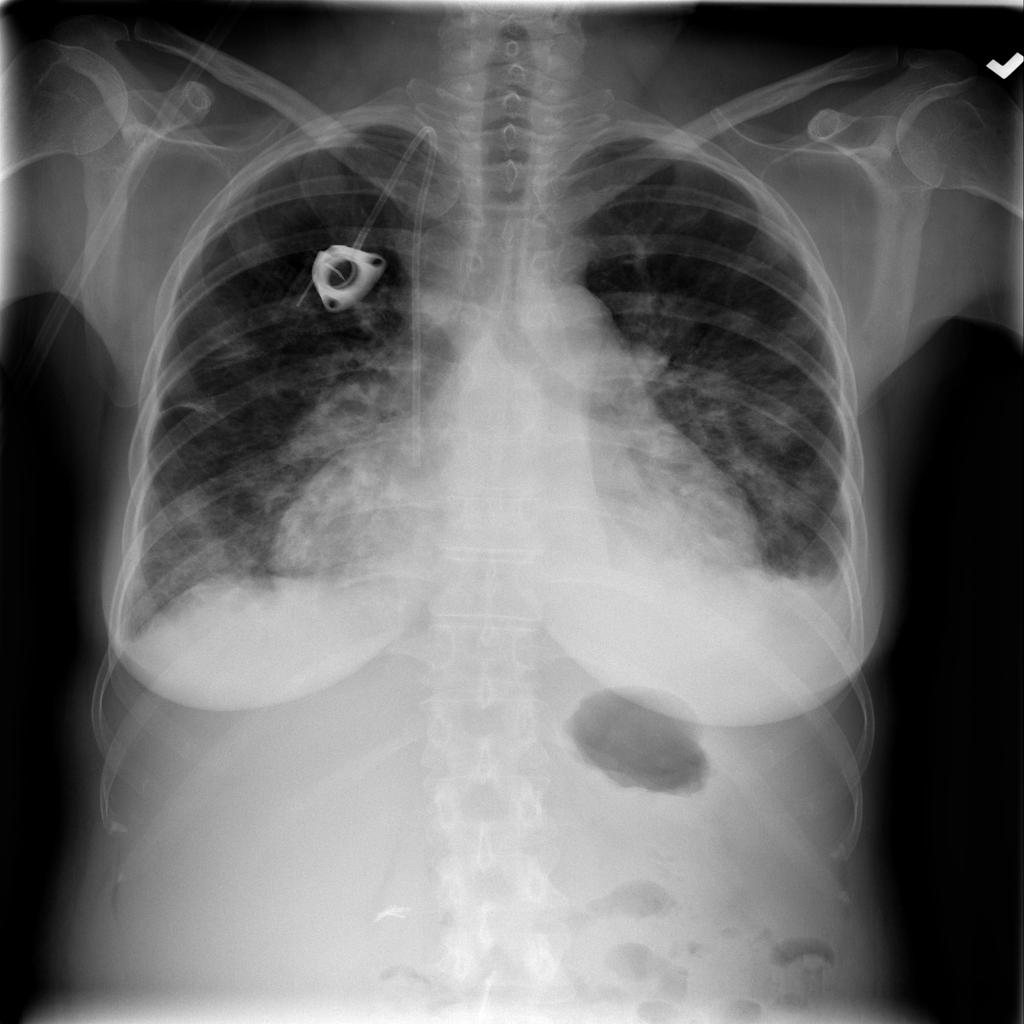nodule: (734, 384, 815, 455), (749, 466, 830, 536), (707, 287, 780, 350), (705, 189, 762, 235)
